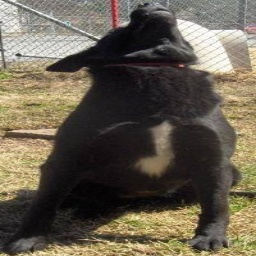dog: (3, 7, 236, 253)
